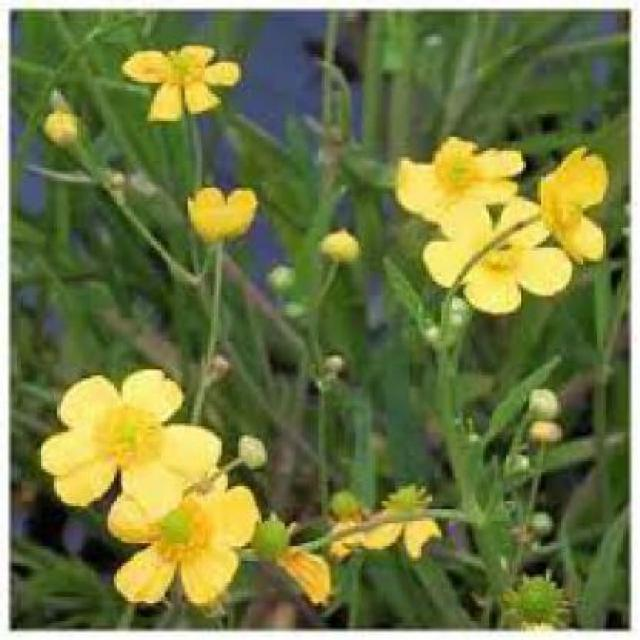Flower: (39, 365, 219, 503), (109, 469, 260, 606), (421, 196, 572, 316), (392, 134, 526, 231), (120, 43, 243, 123), (535, 145, 612, 268)
